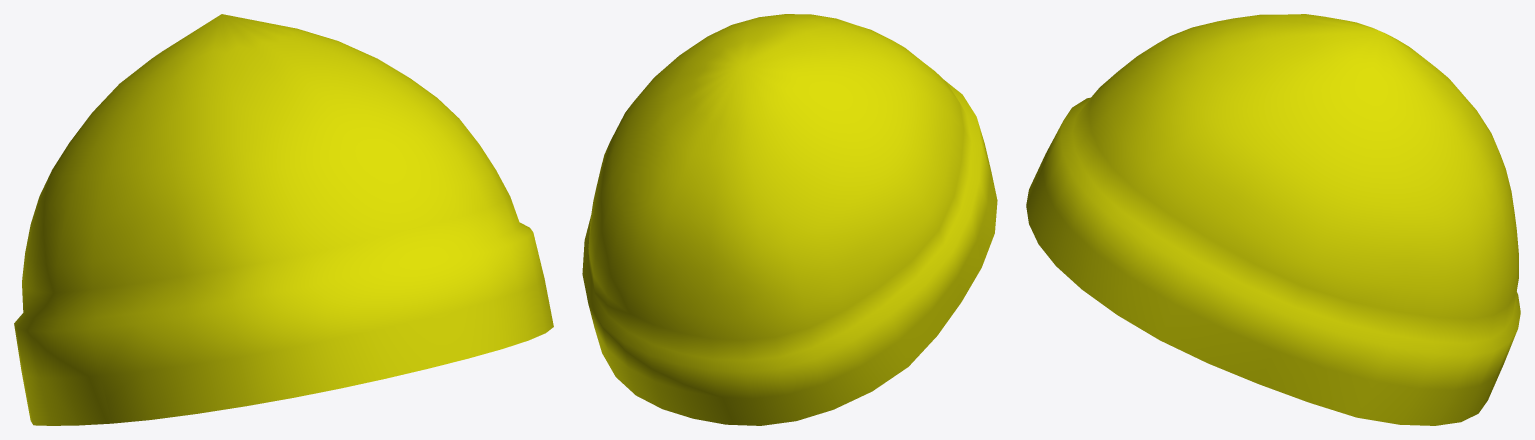
Rendered from Cap1_34.glb.
3 renders of one model, left to right at view 1: azimuth 30°, elevation 25°; view 2: azimuth 150°, elevation 25°; view 3: azimuth 270°, elevation 25°, orthographic. The views are drawn at different scales.
Size of the model in its own units: 59.07 by 52.72 by 66.68.
